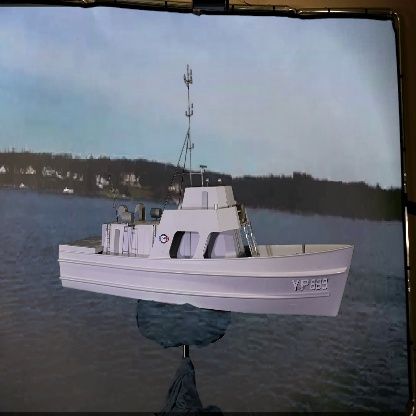YP689: (55, 60, 360, 319)
